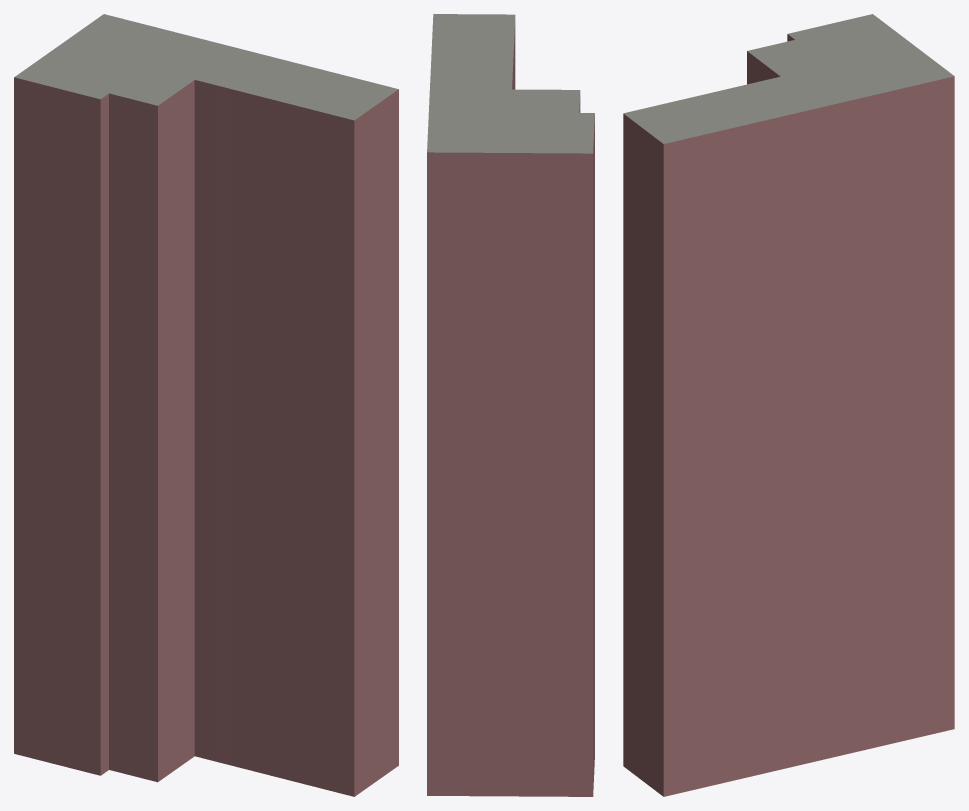
The model's file is nyc-1022577-0.glb.
The picture shows the model from 3 angles, left to right: view 1: azimuth 30°, elevation 25°; view 2: azimuth 150°, elevation 25°; view 3: azimuth 270°, elevation 25°; orthographic projection. The views are drawn at different scales.
Parts seen in each view (by area): view 1: nyc-1022577-0; view 2: nyc-1022577-0; view 3: nyc-1022577-0.
Boxes of the visible parts, x1,y1,x2,y2 form: nyc-1022577-0: [14, 14, 398, 796]; nyc-1022577-0: [427, 14, 594, 796]; nyc-1022577-0: [623, 14, 954, 796].
Bounding box in the file's own units: 55.12 × 129 × 59.34.
